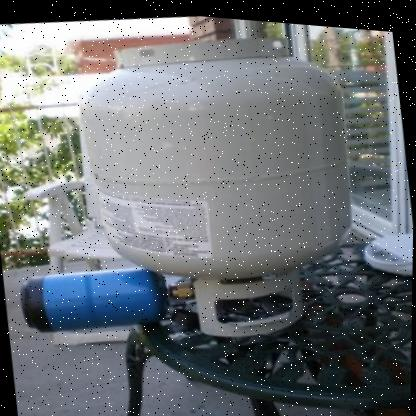gas-tank: (31, 2, 393, 377)
